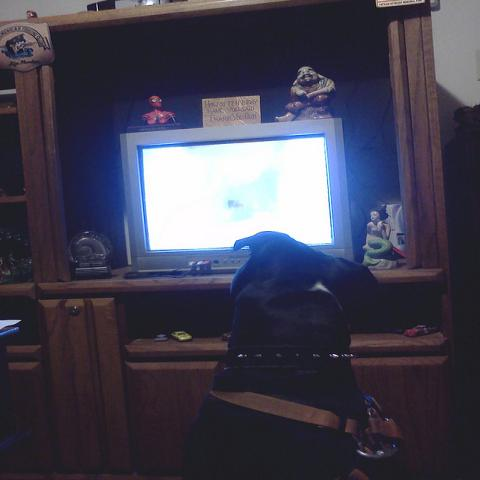car: (403, 325, 438, 336), (170, 331, 192, 342)
